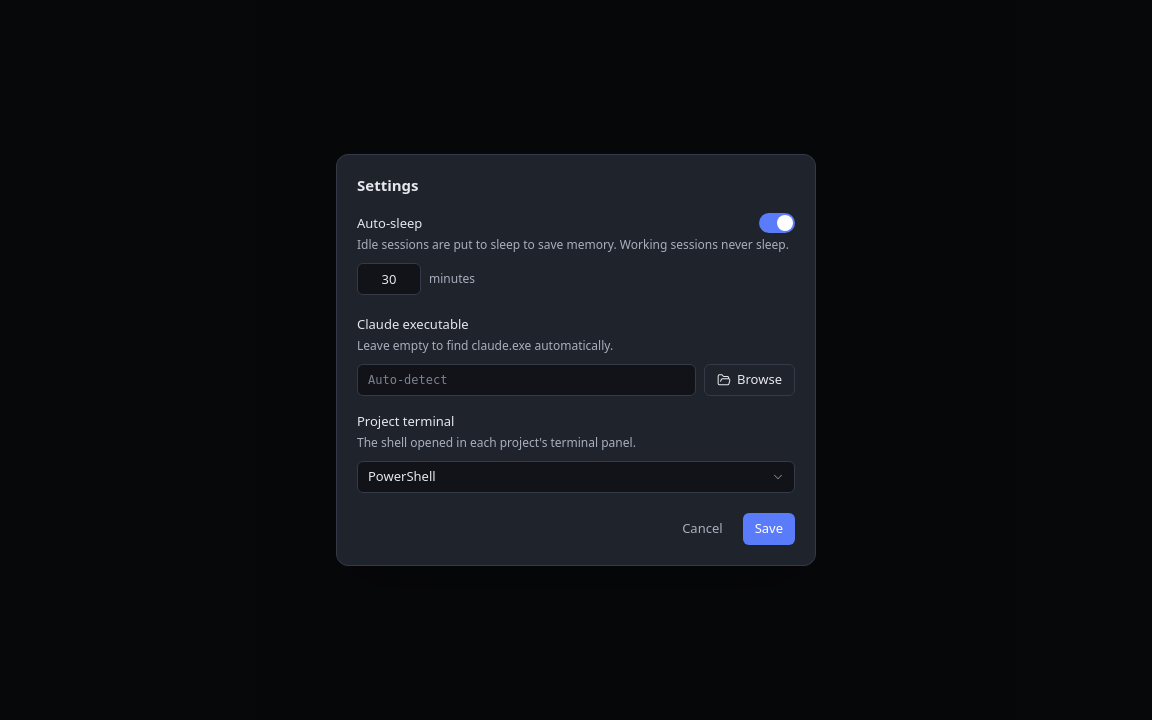
Test: SettingsDialog › minutes  is invalid: error shown and Save disabled
Clear the number field with id "set-minutes" at (389, 279), box [357,263,421,295]
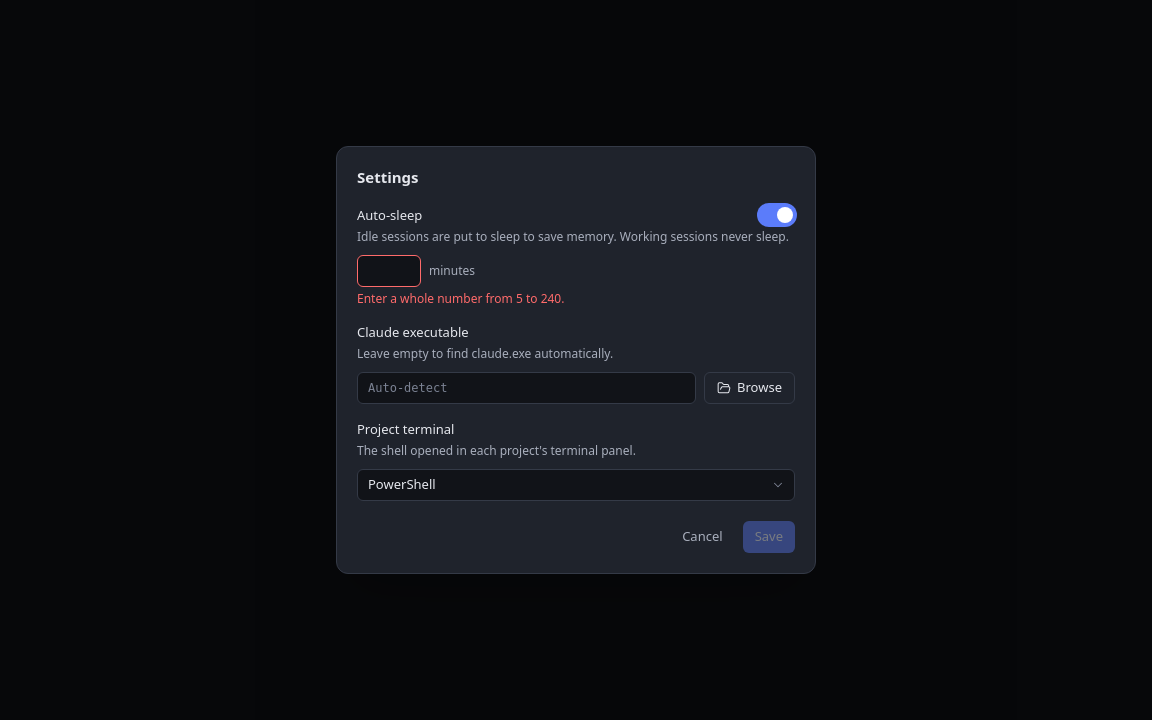
Expected: the message with id "set-minutes-err" shows "5 to 240", [357,290,564,307]
Expected: the button "Save" is disabled, [743,521,795,553]
